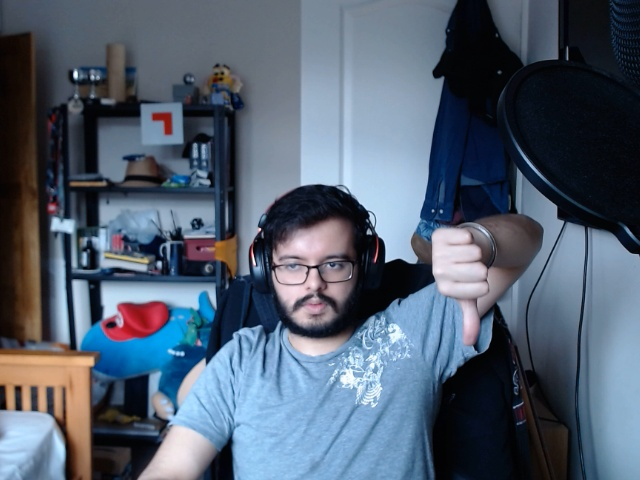Thumbs down: (430, 213, 496, 358)
